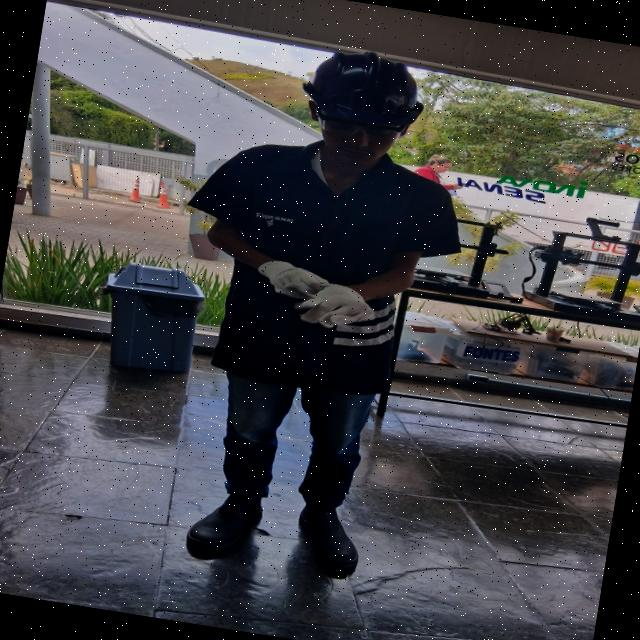BOTA: (177, 486, 273, 559), (292, 496, 367, 570)
CAPACETE: (295, 49, 437, 128)
JALECO: (178, 135, 462, 396)
LUVA: (251, 254, 341, 300), (296, 283, 383, 329)
OCULOS: (311, 114, 406, 148)
